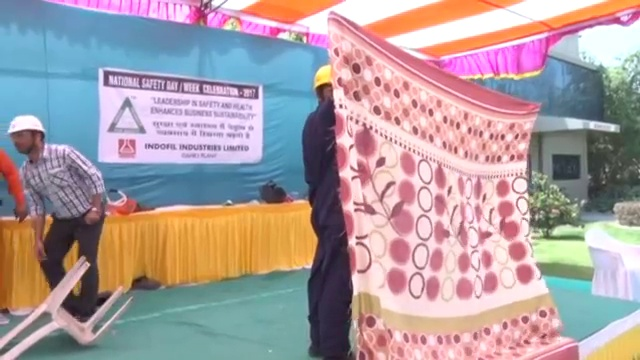helmet: (7, 114, 46, 139), (312, 65, 335, 88)
helmet_on: (5, 114, 47, 165), (311, 64, 334, 105)
person: (1, 114, 112, 326), (304, 64, 354, 360)
